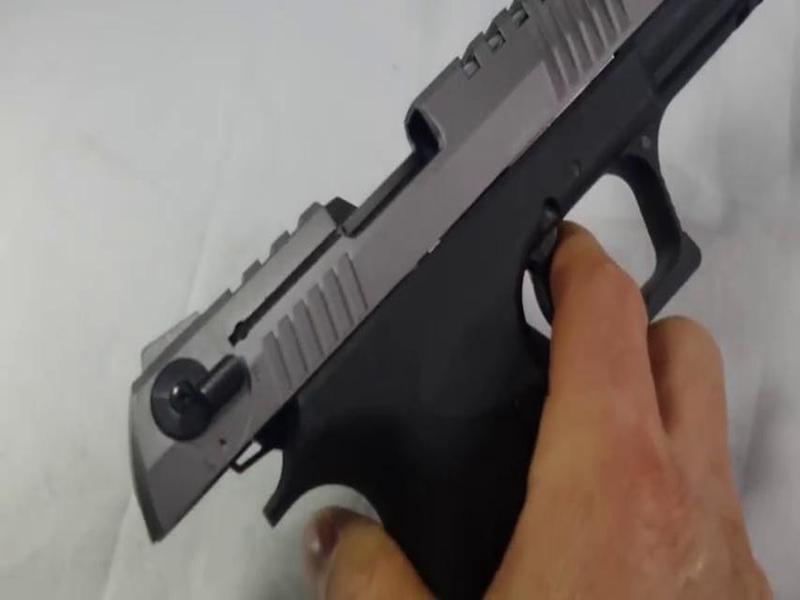Pistola: (115, 1, 775, 588)
